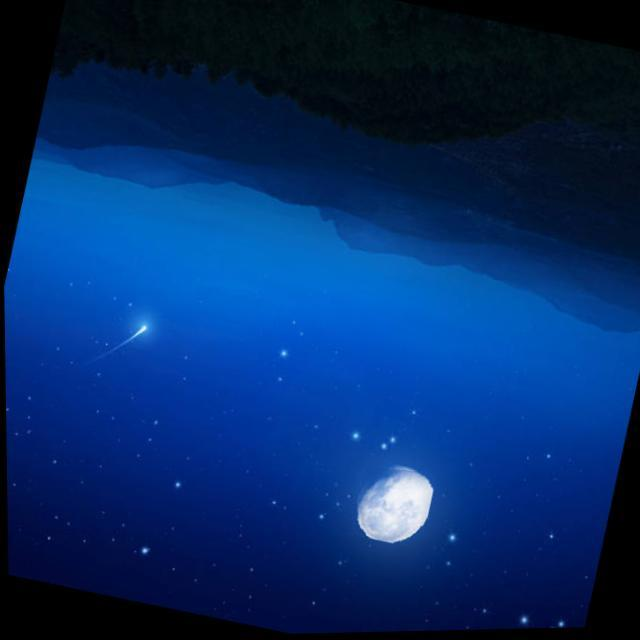moon: (344, 458, 436, 552)
